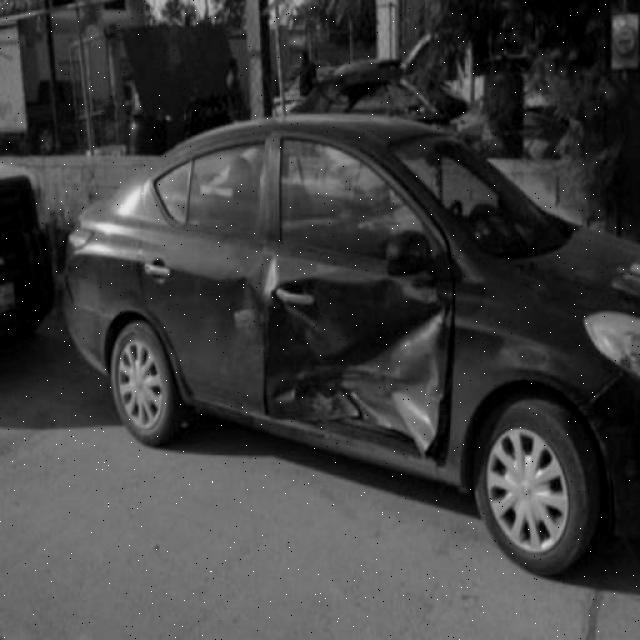car damage: (264, 261, 456, 466), (221, 276, 258, 364), (261, 247, 279, 303)
